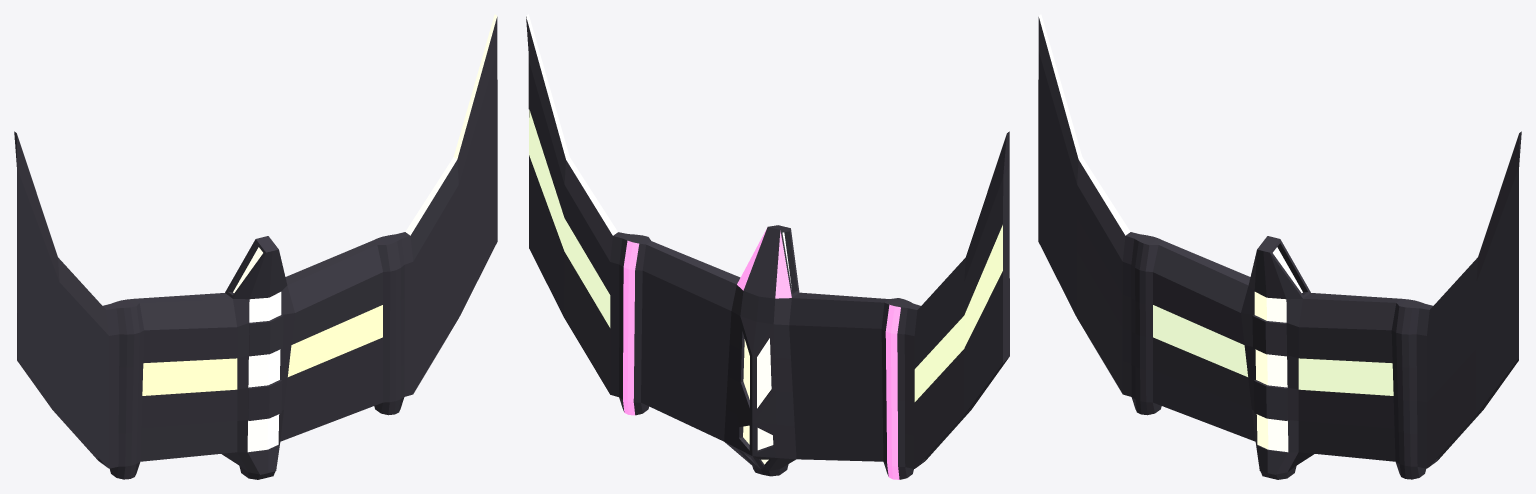
File: end_ship.fbx
3 views of the same model, side by side, from view 1: azimuth 30°, elevation 25°; view 2: azimuth 150°, elevation 25°; view 3: azimuth 330°, elevation 25° (orthographic).
Parts seen in each view (by area): view 1: end; view 2: end; view 3: end.
Part boxes in pixels (<box>): end: <box>14,14,497,479</box>; end: <box>526,14,1009,479</box>; end: <box>1038,14,1521,479</box>.
Size of the model in its own units: 259 by 204 by 29.88.
